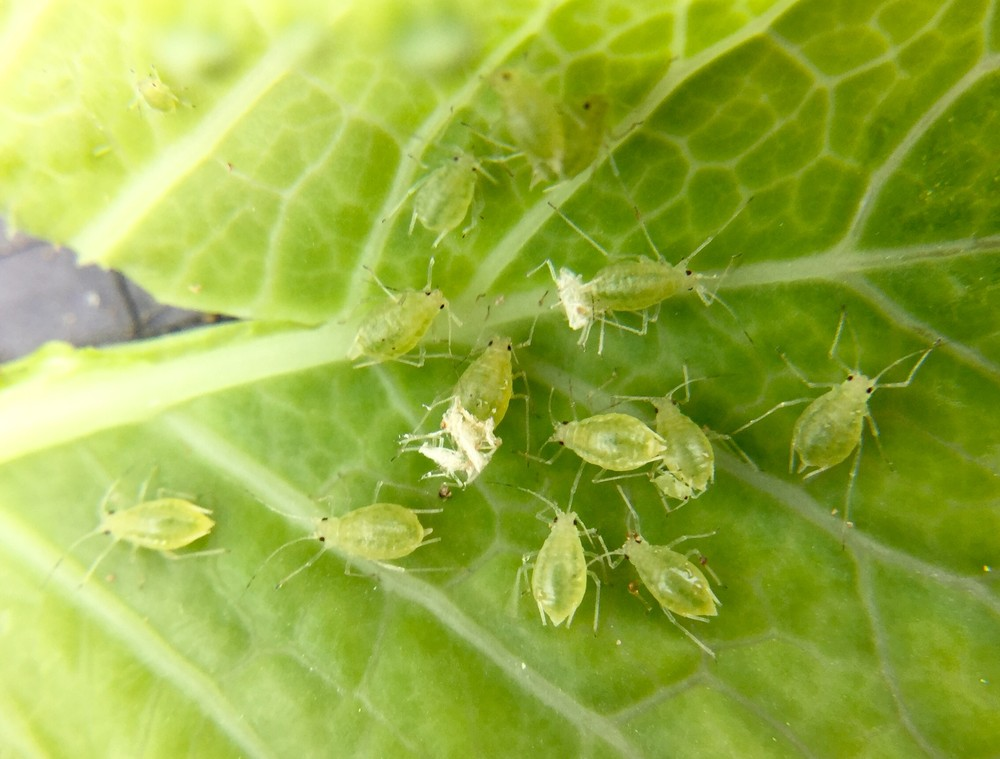Pulgon: (766, 318, 943, 516), (543, 203, 759, 353), (243, 481, 465, 596), (608, 503, 748, 666), (504, 467, 620, 649), (58, 462, 231, 581), (628, 365, 745, 499), (454, 303, 547, 460), (537, 385, 675, 486), (393, 141, 510, 256), (344, 262, 462, 374)
